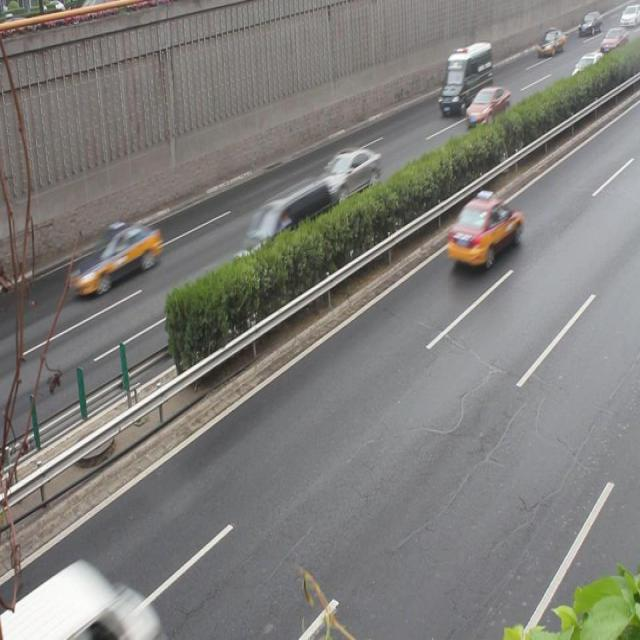car: (70, 220, 162, 299), (445, 192, 522, 268), (309, 148, 382, 208), (464, 86, 511, 129)
truck: (228, 179, 331, 275), (436, 42, 493, 116)
